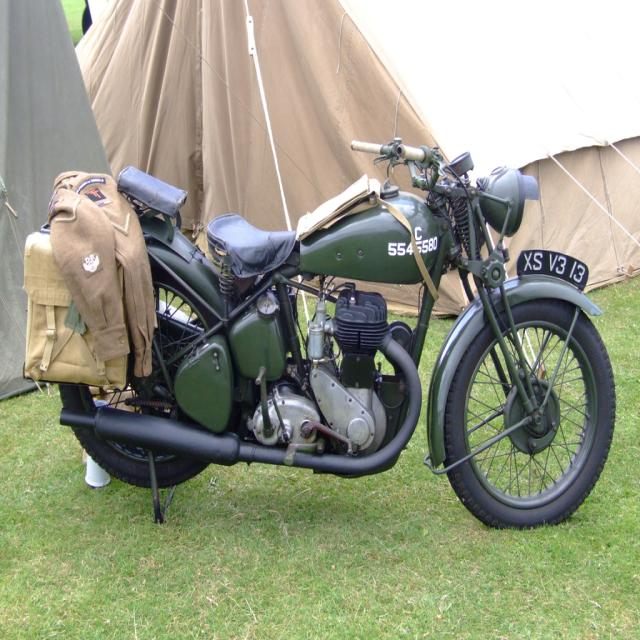Motorbikes: (24, 142, 616, 530)
